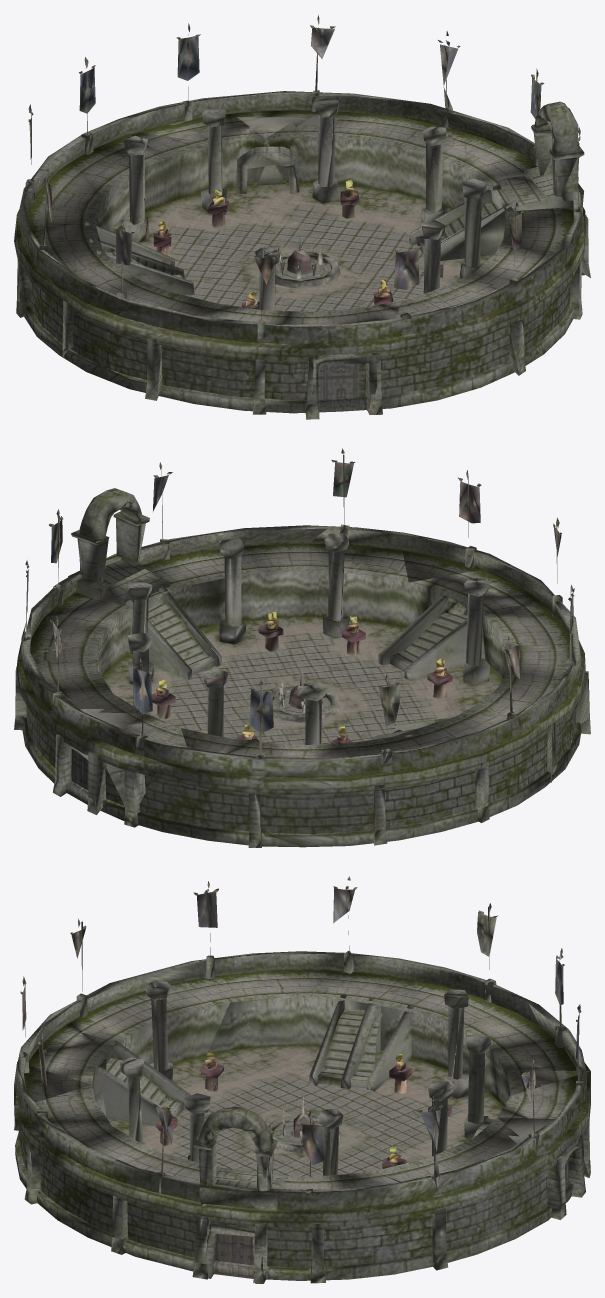
Rendered from Asterion_Courtyard_LOD1.glb.
3 views of the same model, one above another, from view 1: azimuth 30°, elevation 25°; view 2: azimuth 150°, elevation 25°; view 3: azimuth 270°, elevation 25° (orthographic).
Visible parts, largest first — view 1: Mesh_0; view 2: Mesh_0; view 3: Mesh_0.
Boxes of the visible parts, <box> form: Mesh_0: <box>14,14,590,419</box>; Mesh_0: <box>14,448,590,847</box>; Mesh_0: <box>14,876,590,1283</box>.
Size of the model in its own units: 24.81 by 8.12 by 24.81.
Materials: 1 (1 with a texture image).
